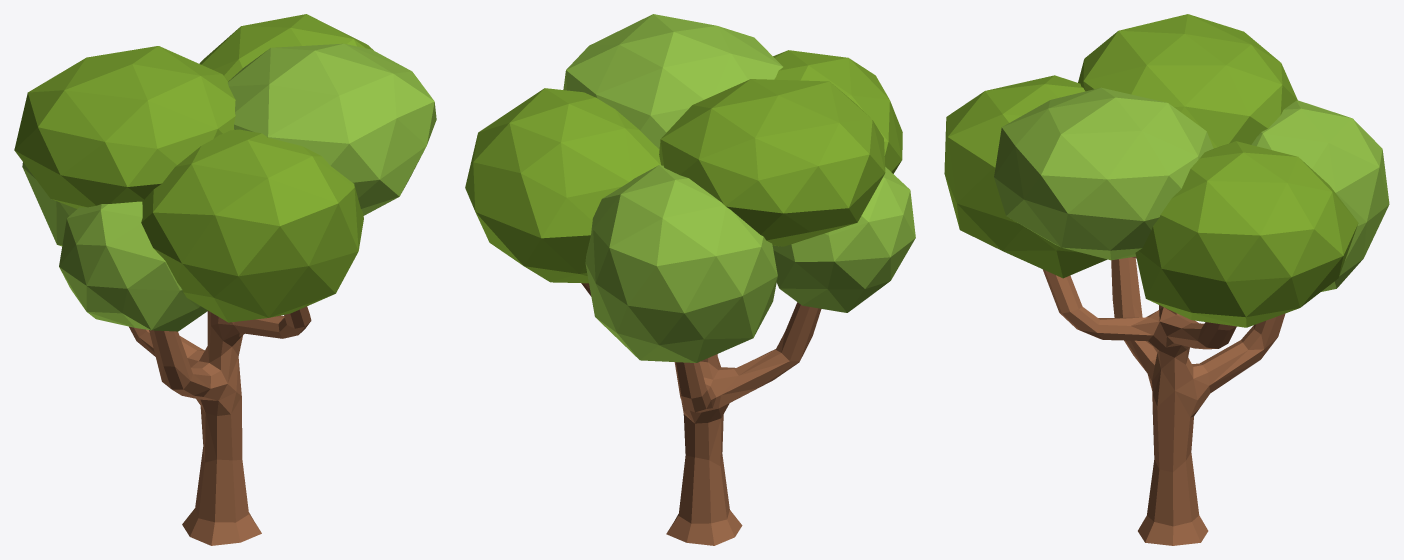
Rendered from Tree_1.fbx.
3 renders of one model, left to right at view 1: azimuth 30°, elevation 25°; view 2: azimuth 150°, elevation 25°; view 3: azimuth 270°, elevation 25°, orthographic. The views are drawn at different scales.
Parts seen in each view (by area): view 1: Tree_2; view 2: Tree_2; view 3: Tree_2.
Boxes of the visible parts, x1=… form: Tree_2: x1=14, y1=14, x2=436, y2=545; Tree_2: x1=465, y1=14, x2=915, y2=545; Tree_2: x1=944, y1=14, x2=1389, y2=545.
Bounding box in the file's own units: 5.15 × 5.55 × 6.36.
